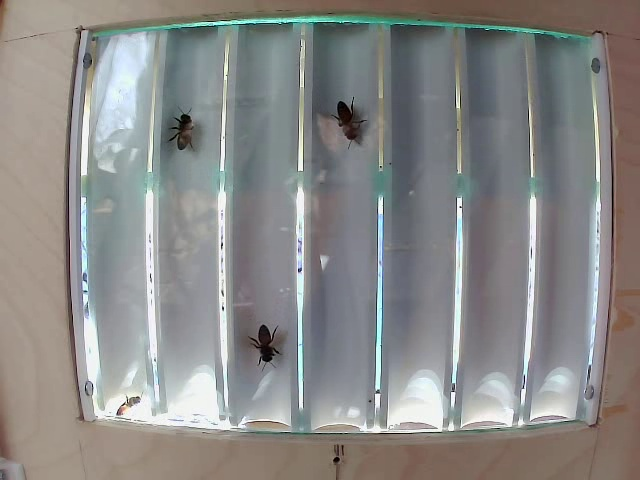bee: (148, 111, 212, 167), (233, 306, 287, 364), (329, 93, 363, 166)
